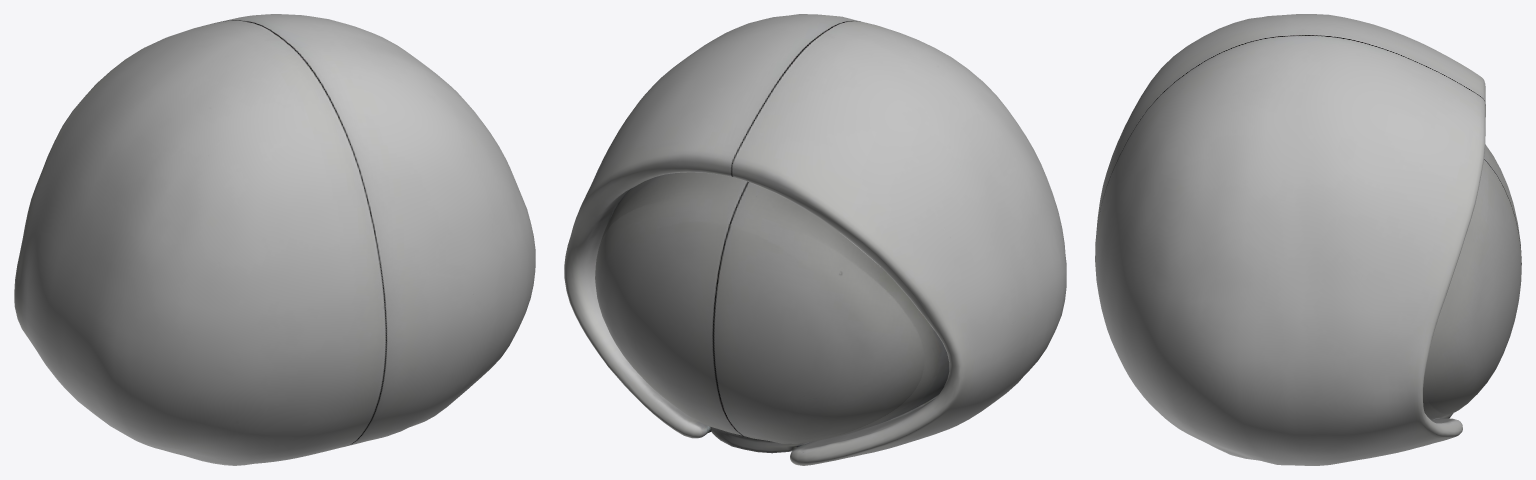
File: chr_player_capsule01_bunny01_head_top3d_v005.glb
3 views of the same model, side by side, from view 1: azimuth 30°, elevation 25°; view 2: azimuth 150°, elevation 25°; view 3: azimuth 270°, elevation 25° (orthographic). The views are drawn at different scales.
Visible parts, largest first — view 1: EXPORT_chr_player_capsule01_bunny01_head_top3d_v005_00; view 2: EXPORT_chr_player_capsule01_bunny01_head_top3d_v005_00; view 3: EXPORT_chr_player_capsule01_bunny01_head_top3d_v005_00.
Part boxes in pixels (bbox=[...]): EXPORT_chr_player_capsule01_bunny01_head_top3d_v005_00: bbox=[14, 14, 535, 465]; EXPORT_chr_player_capsule01_bunny01_head_top3d_v005_00: bbox=[564, 14, 1066, 465]; EXPORT_chr_player_capsule01_bunny01_head_top3d_v005_00: bbox=[1095, 14, 1521, 465].
Size of the model in its own units: 0.5006 by 0.4175 by 0.43.
1 material, 1 textured.
